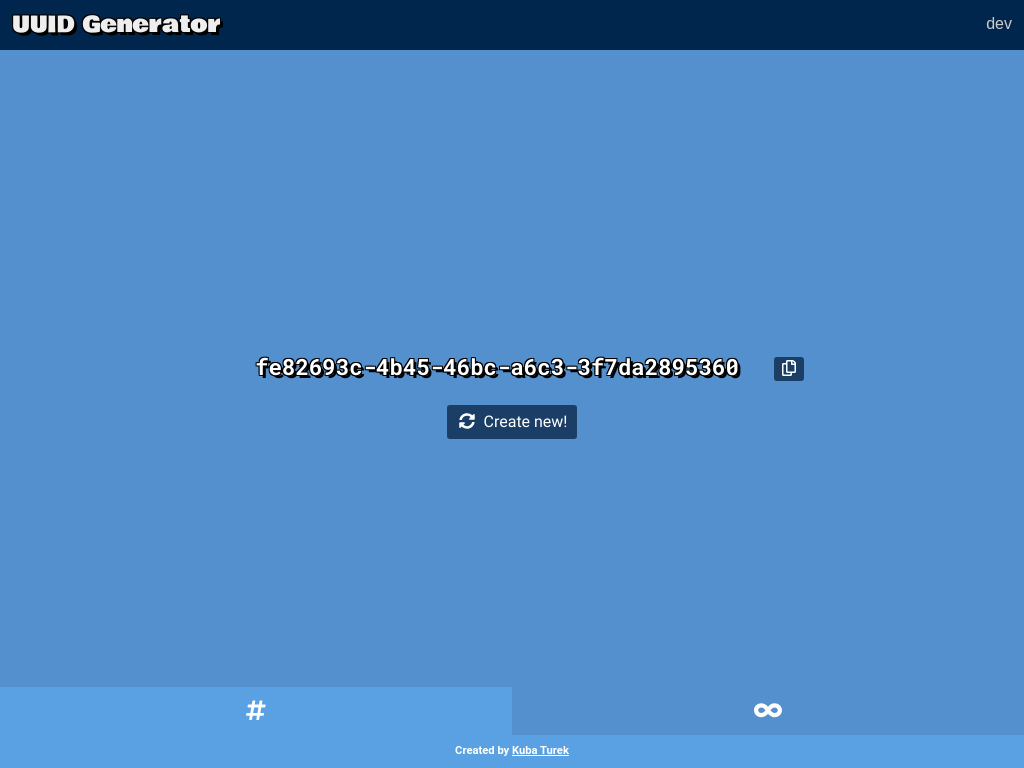
it: Multi UUID generation › should generate uuid with single and double quotes
Click the button with test id "multi-mode-switcher" at [768, 712], box [512, 687, 1023, 737]
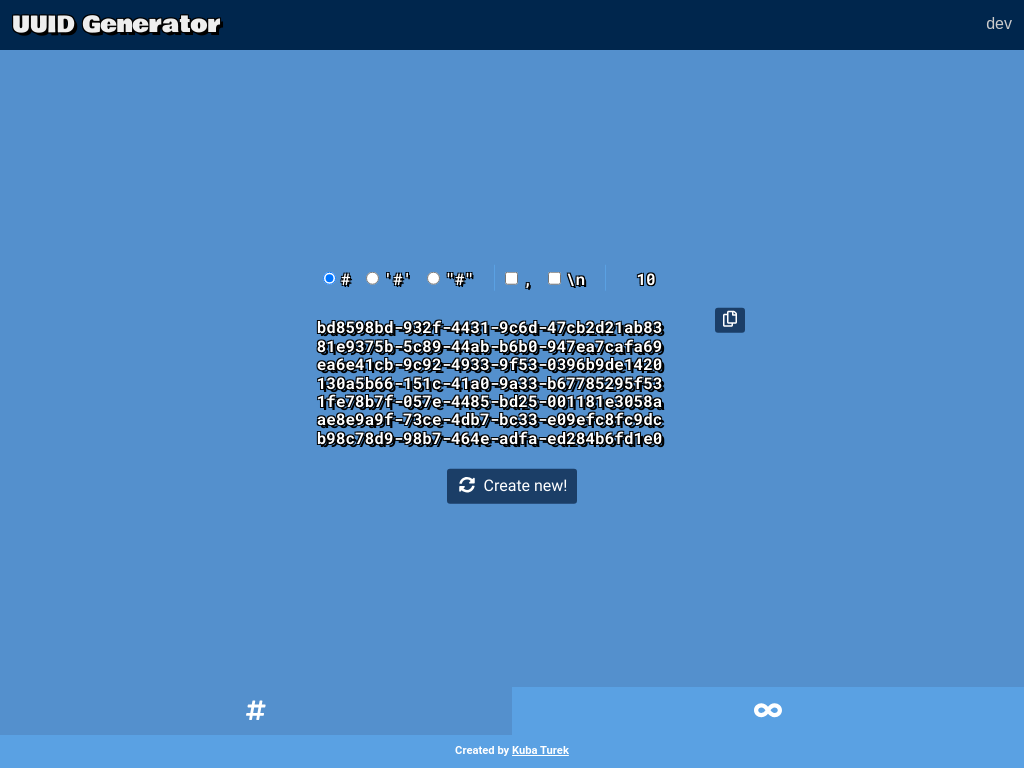
Check the radio button with test id "radio_quotes_single" at [373, 279], box [366, 272, 379, 285]
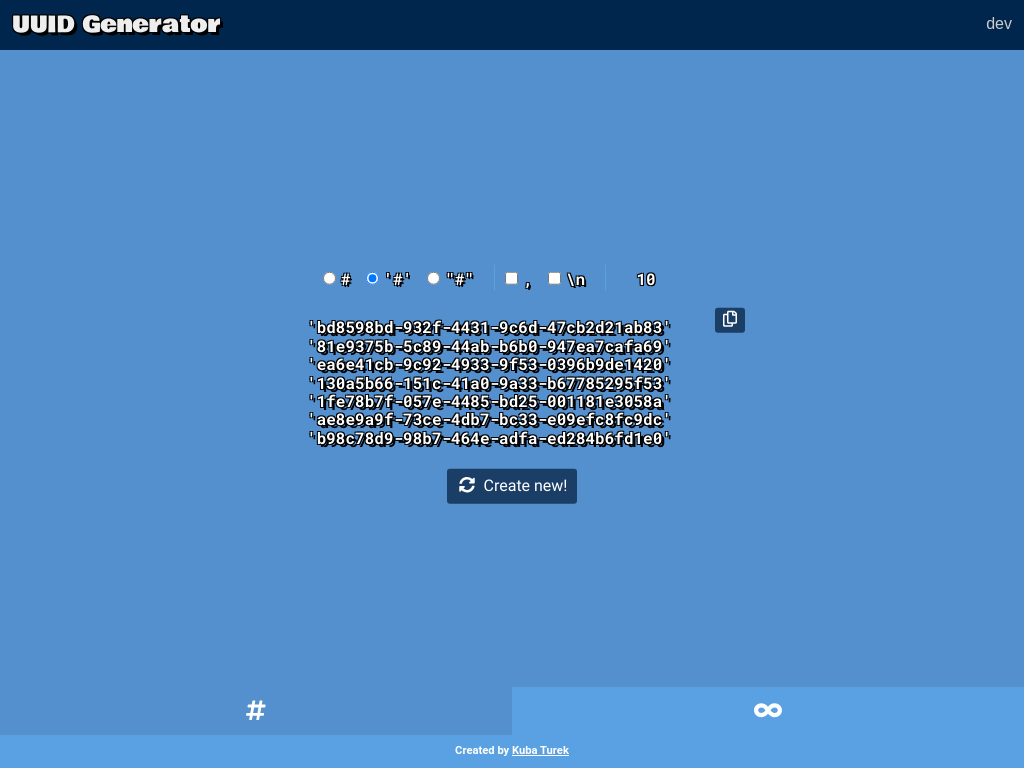
Expected: the text box with test id "multi-uuid-value" holds "('[0-9a-f\\-]+'\\s){9}('[0-9a-f\\-]+')", [285, 308, 695, 448]
Check the radio button with test id "radio_quotes_double" at [434, 279], box [427, 272, 440, 285]
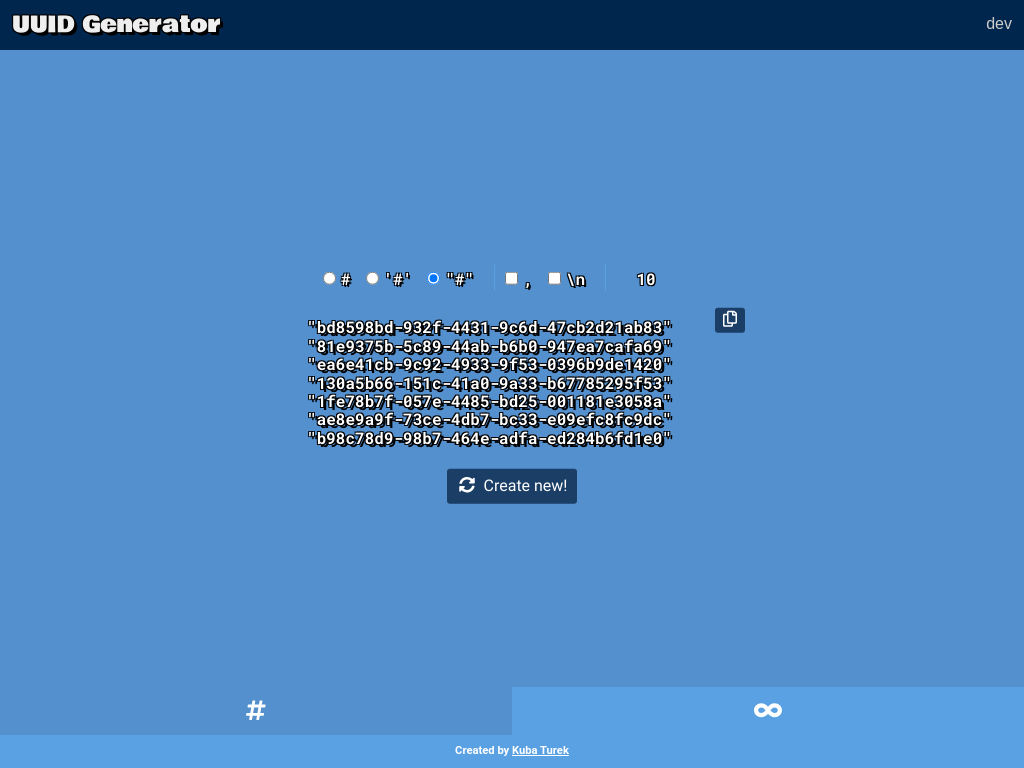
Expected: the text box with test id "multi-uuid-value" holds "(\"[0-9a-f\\-]+\"\\s){9}(\"[0-9a-f\\-]+\")", [285, 308, 695, 448]
